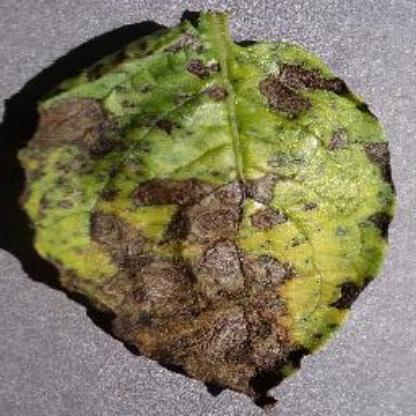Early-Blight: (14, 8, 400, 408)
